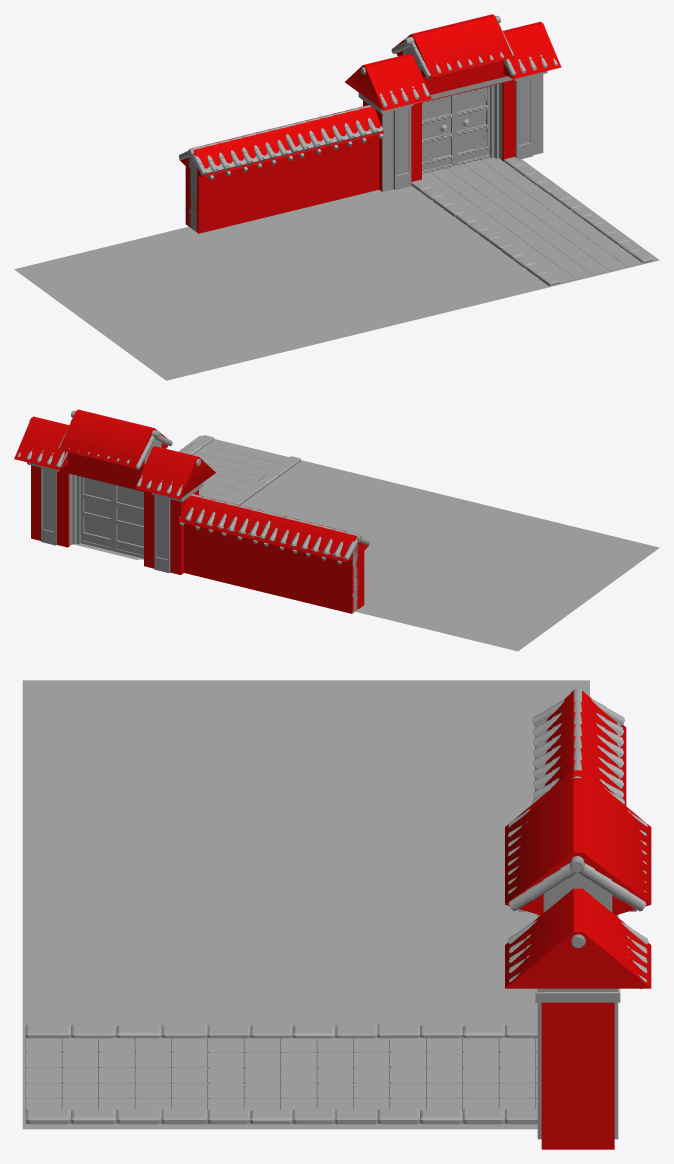
The model's file is Japanese_Gate_Stage.fbx.
The picture shows the model from 3 angles, top to bottom: view 1: azimuth 30°, elevation 25°; view 2: azimuth 150°, elevation 25°; view 3: azimuth 270°, elevation 25°; orthographic projection. The views are drawn at different scales.
Parts seen in each view (by area): view 1: Ground_B, Ground_A, GateMain_Collison, polySurface301, GateWalls_E_Collison, GateWalls_F_Collison, StoneWalkway_B (×2), StoneWalkway_A (×2), Ground_GateWalkway, Gate_DoorRight, Gate_DoorLeft, GateWalls_E (+6 smaller); view 2: Ground_B, GateMain_Collison, Ground_A, GateWalls_E_Collison, GateWalls_F_Collison, polySurface301, Gate_DoorRight, Gate_DoorLeft, Ground_GateWalkway, GateWalls_E, StoneWalkway_B (×2), GateWalls_F (+5 smaller); view 3: Ground_B, Ground_A, GateMain_Collison, StoneWalkway_B (×2), StoneWalkway_A (×2), Ground_GateWalkway, polySurface301, GateWalls_E_Collison, GateWalls_E, StoneWalkway_SideStones_Right, StoneWalkway_C, StoneWalkway_D (+2 smaller).
Part boxes in pixels (box(x1,y1,x2,y2)): Ground_B: box(14, 226, 346, 380); Ground_A: box(204, 190, 526, 336); GateMain_Collison: box(345, 14, 561, 191); polySurface301: box(358, 15, 557, 191); GateWalls_E_Collison: box(179, 127, 293, 233); GateWalls_F_Collison: box(283, 105, 383, 211); StoneWalkway_B (×2): box(456, 189, 612, 260); StoneWalkway_A (×2): box(411, 157, 602, 253); Ground_GateWalkway: box(388, 159, 659, 292); Gate_DoorRight: box(454, 86, 489, 165); Gate_DoorLeft: box(422, 95, 454, 174); GateWalls_E: box(179, 127, 292, 232); Ground_B: box(355, 506, 659, 651); GateMain_Collison: box(14, 409, 215, 574); Ground_A: box(262, 465, 491, 599); GateWalls_E_Collison: box(262, 514, 368, 613); GateWalls_F_Collison: box(178, 494, 272, 593); polySurface301: box(17, 410, 203, 572); Gate_DoorRight: box(80, 476, 113, 551); Gate_DoorLeft: box(113, 484, 143, 558); Ground_GateWalkway: box(75, 435, 323, 559); GateWalls_E: box(264, 514, 370, 612); StoneWalkway_B (×2): box(199, 464, 261, 505); GateWalls_F: box(179, 494, 275, 543); Ground_B: box(22, 680, 589, 844); Ground_A: box(22, 844, 537, 1008); GateMain_Collison: box(505, 770, 651, 1149); StoneWalkway_B (×2): box(135, 1024, 389, 1124); StoneWalkway_A (×2): box(171, 1024, 537, 1124); Ground_GateWalkway: box(22, 1008, 537, 1129); polySurface301: box(507, 776, 648, 1139); GateWalls_E_Collison: box(535, 690, 626, 805); GateWalls_E: box(532, 688, 624, 798); StoneWalkway_SideStones_Right: box(25, 1109, 207, 1124); StoneWalkway_C: box(98, 1037, 134, 1110); StoneWalkway_D: box(62, 1037, 98, 1110).
Size of the model in its own units: 2799 by 713 by 1554.
